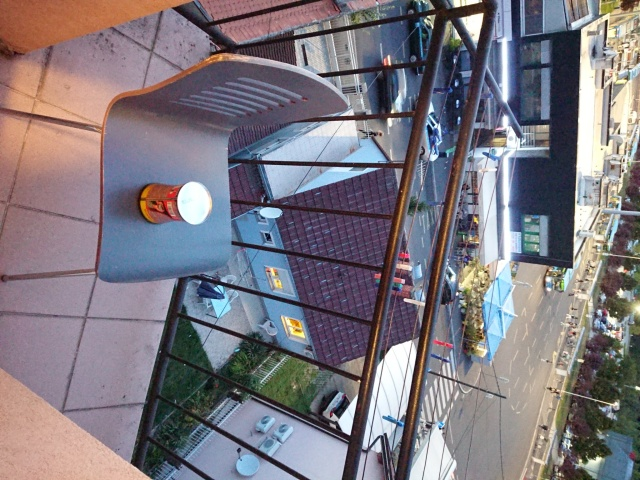Nescafe Classic 225g: (136, 180, 216, 227)
